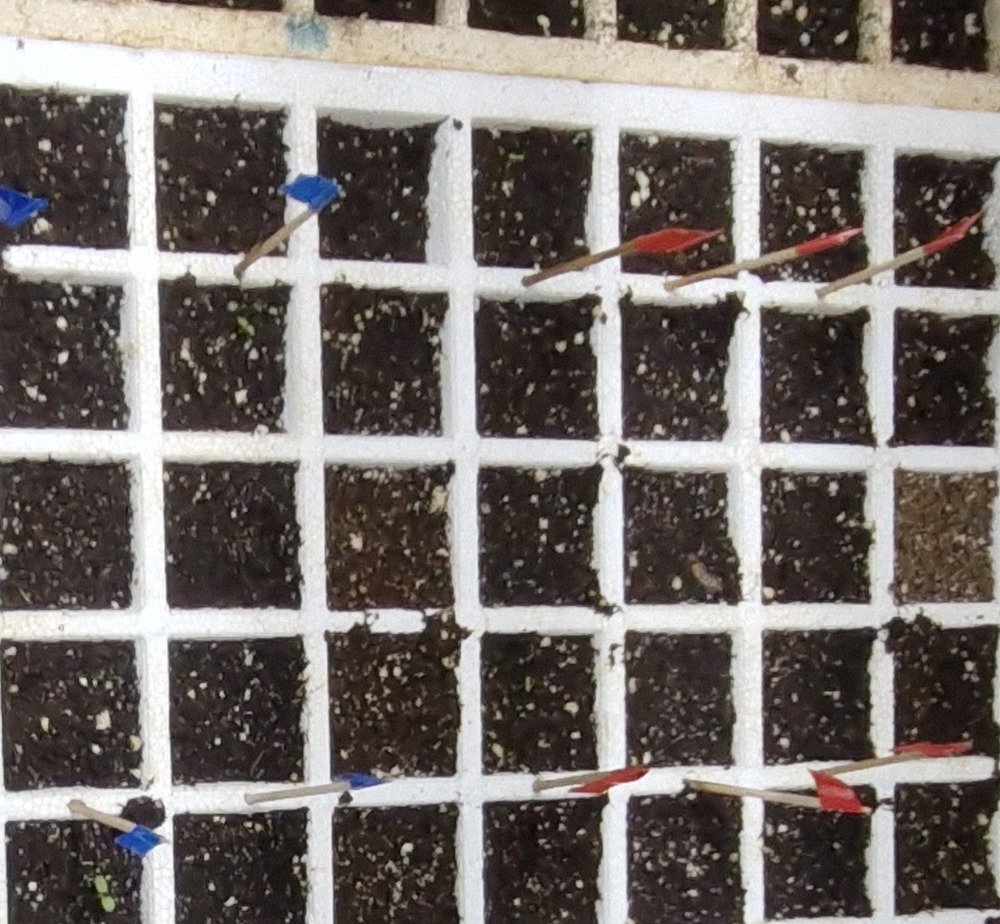Folha: (94, 876, 107, 893), (102, 896, 116, 911), (237, 317, 249, 327)
Germinacao: (95, 876, 116, 911), (236, 317, 256, 335)
